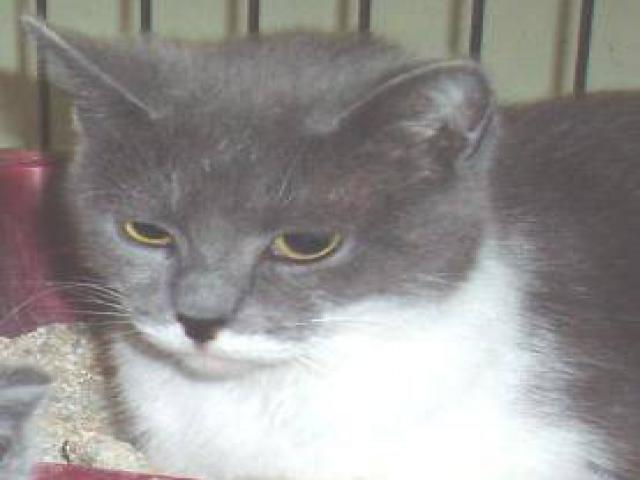cat: (26, 12, 636, 478)
